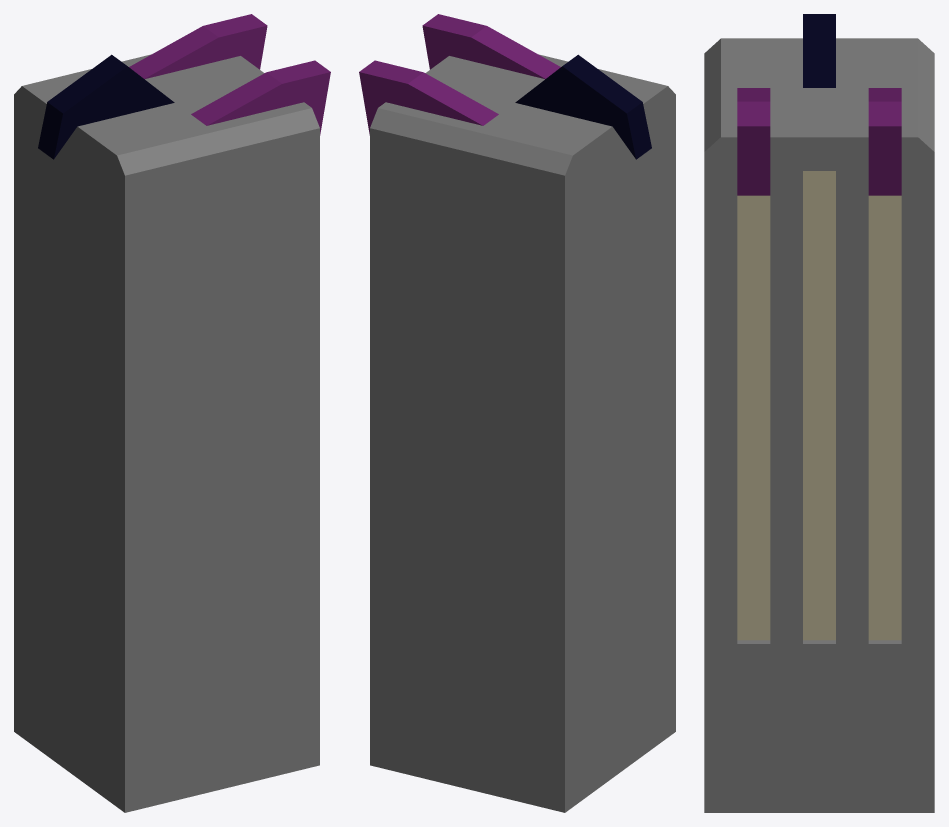
The model's file is Three Claw Building.fbx.
3 views of the same model, side by side, from view 1: azimuth 30°, elevation 25°; view 2: azimuth 150°, elevation 25°; view 3: azimuth 270°, elevation 25° (orthographic). The views are drawn at different scales.
Parts seen in each view (by area): view 1: Three_Claw_Building; view 2: Three_Claw_Building; view 3: Three_Claw_Building.
Boxes of the visible parts, x1,y1,x2,y2 form: Three_Claw_Building: [14, 14, 330, 812]; Three_Claw_Building: [359, 14, 675, 812]; Three_Claw_Building: [704, 14, 934, 812].
Size of the model in its own units: 37.47 by 102 by 29.33.
